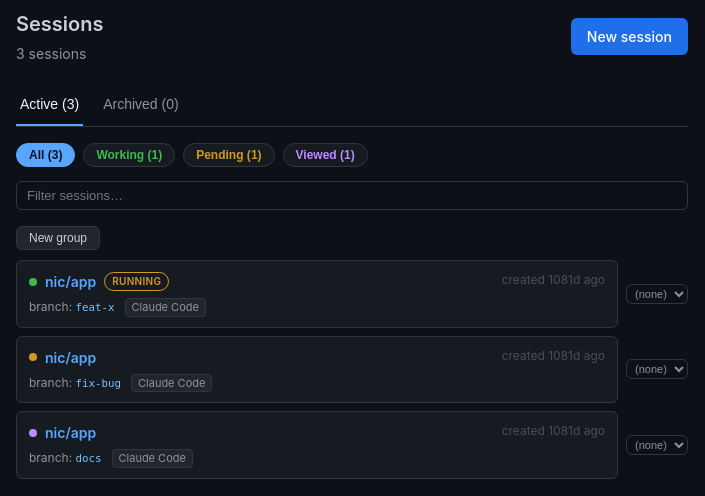
Scenario: SessionList › filters by text against repo, branch, and harness
Expected: the text "fix-bug" is shown, top-left (76, 376), bottom-right (121, 390)
Step 1. Type "fix-bug" into the field with placeholder "Filter sessions…" → (352, 196), box top-left (16, 181), bottom-right (688, 210)
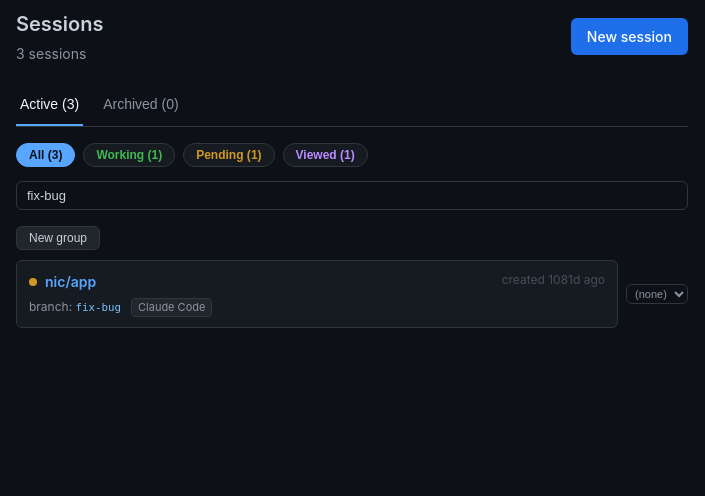
Expected: the text "fix-bug" is shown, top-left (76, 301), bottom-right (121, 314)
Expected: the link "feat-x" is gone
Expected: the link "docs" is gone
